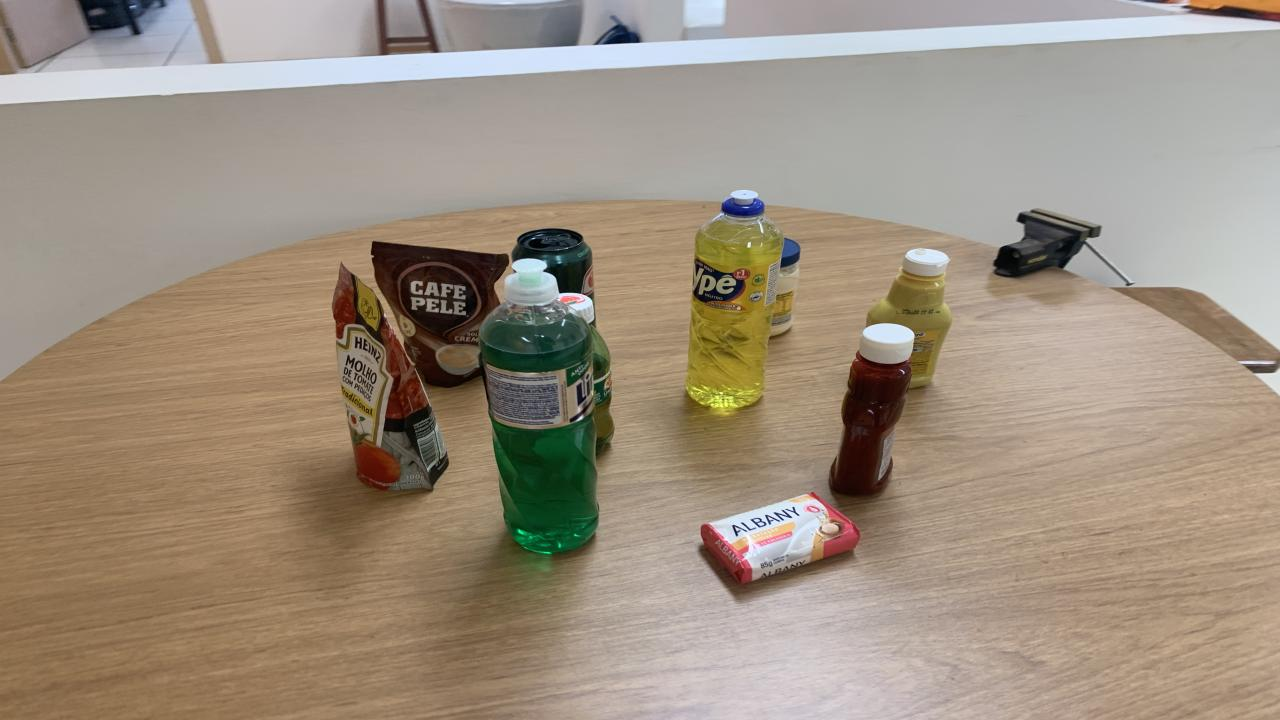Coffee-Pantry_Items: (370, 242, 508, 386)
Detergent-Cleanup_Items: (480, 259, 598, 553), (688, 189, 782, 409)
Guarana-Drinks: (558, 292, 615, 452)
Guarana_Can-Drinks: (512, 229, 595, 298)
Ketchup-Pantry_Items: (830, 322, 915, 495)
Mayonnaise-Pantry_Items: (770, 238, 800, 336)
Mustard-Pantry_Items: (868, 248, 952, 388)
Soap-Cleanup_Items: (700, 493, 860, 583)
Tomato_Sauce-Pantry_Items: (332, 264, 448, 489)
